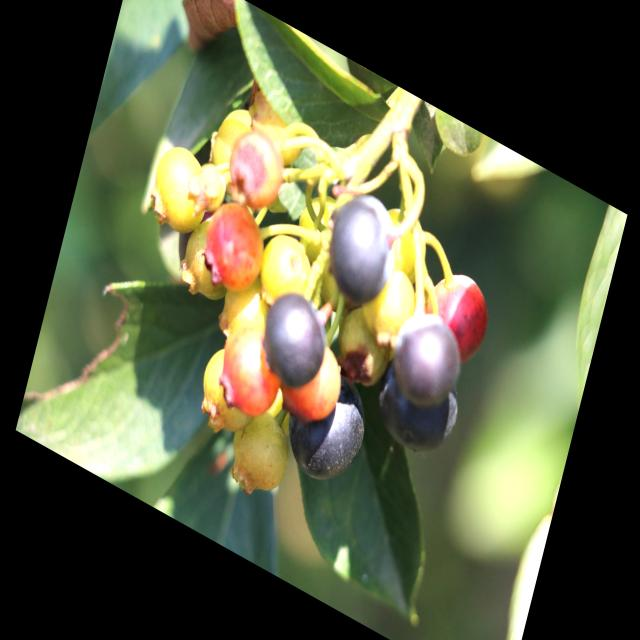blueberry: (281, 353, 376, 493), (373, 349, 463, 464), (323, 182, 402, 310), (387, 301, 465, 414), (258, 284, 334, 396)
blueberry-halfripe: (413, 252, 501, 370), (208, 312, 290, 432), (196, 186, 270, 302), (276, 326, 350, 434), (221, 117, 292, 219)
blueberry-unripe: (227, 399, 297, 510), (146, 136, 212, 237), (253, 222, 316, 320), (208, 270, 268, 360)
